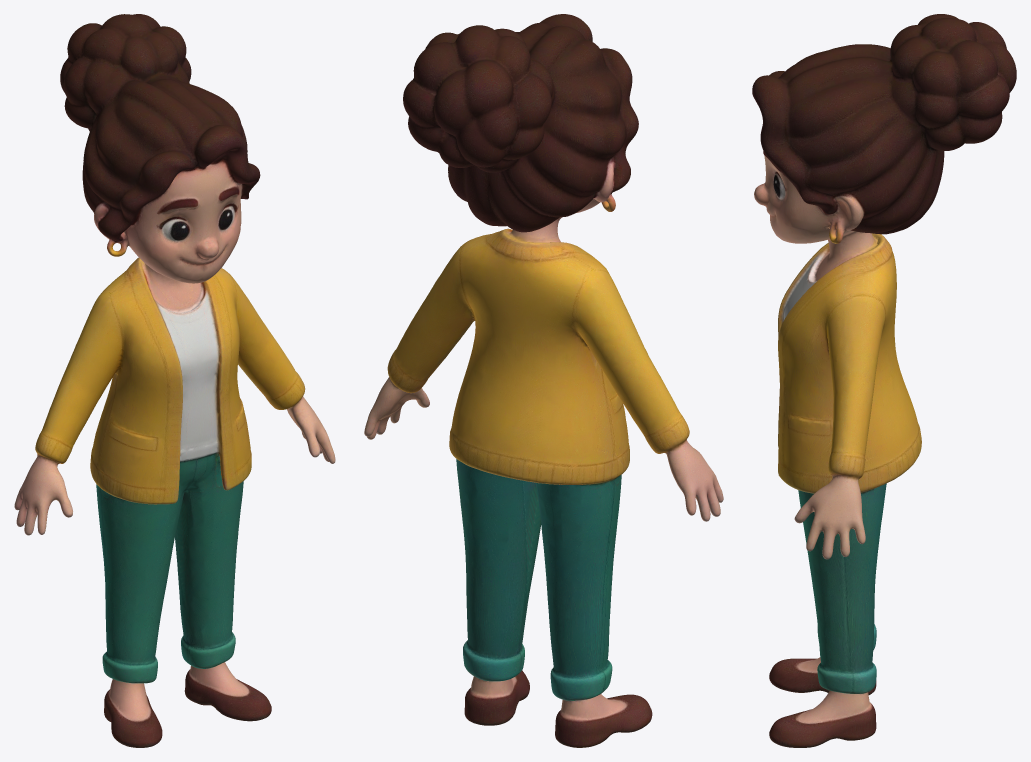
The model's file is Meshy_AI_Sunlit_Casual_Outfit_0726155738_texture.fbx.
3 views of the same model, side by side, from view 1: azimuth 30°, elevation 25°; view 2: azimuth 150°, elevation 25°; view 3: azimuth 270°, elevation 25° (orthographic). The views are drawn at different scales.
Parts seen in each view (by area): view 1: mesh_node; view 2: mesh_node; view 3: mesh_node.
Part boxes in pixels (left/top/right/bottom): mesh_node: left=14, top=14, right=335, bottom=747; mesh_node: left=364, top=14, right=723, bottom=747; mesh_node: left=752, top=14, right=1016, bottom=747.
Bounding box in the file's own units: 93.18 × 190 × 65.68.
1 material, 1 textured.
